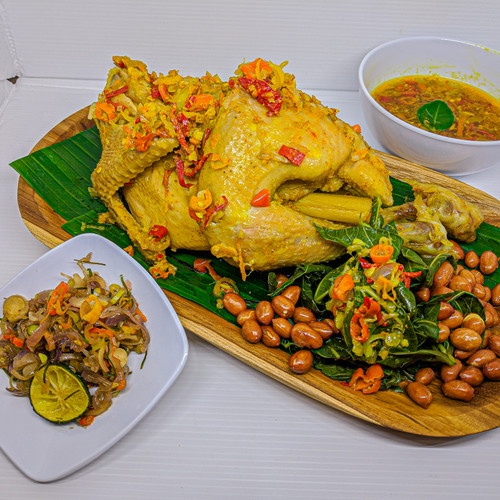ayam_betutu: (93, 57, 359, 236)
